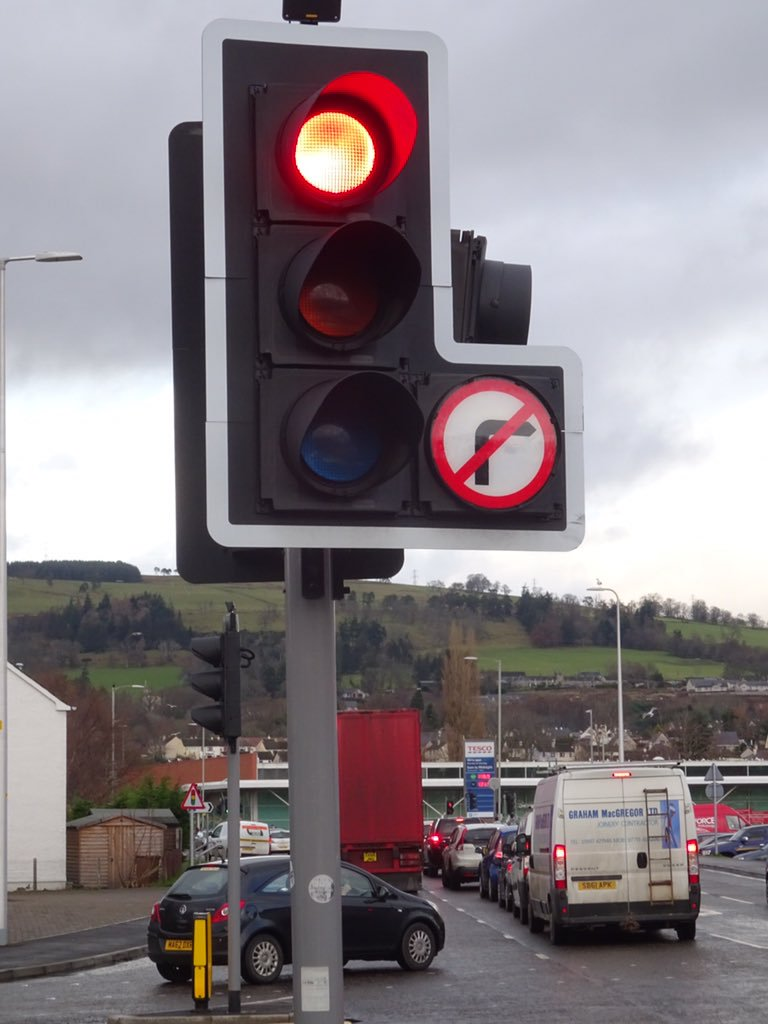No_right_turn: (427, 376, 559, 511)
